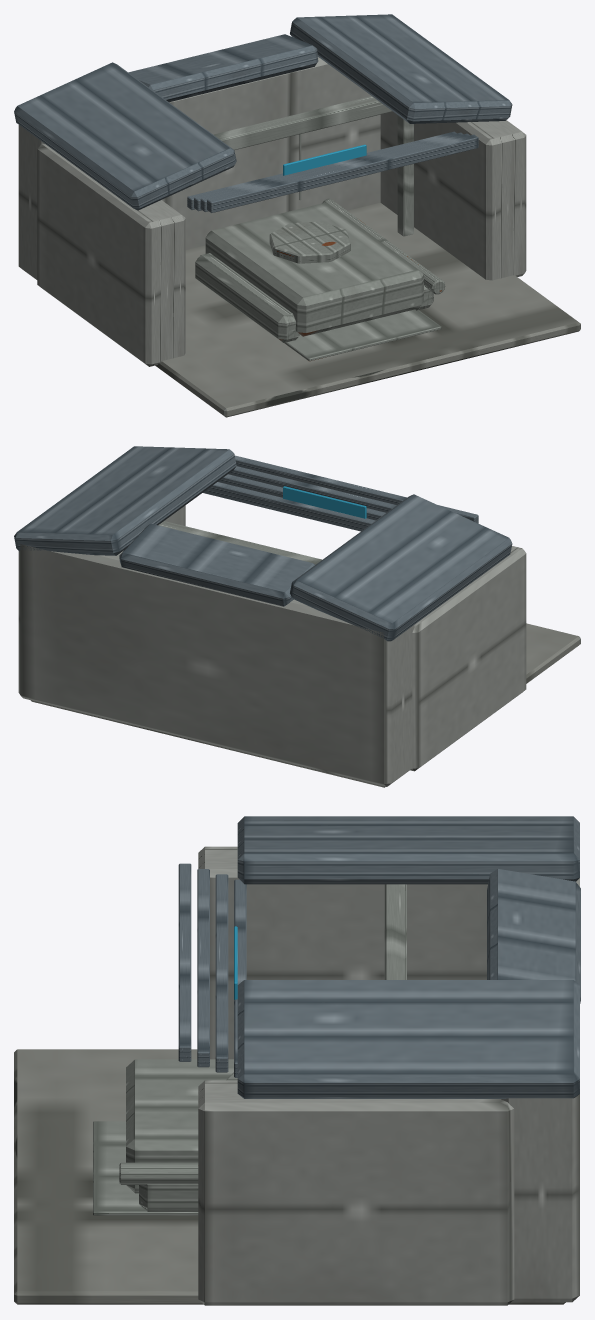
The model's file is edificio-b_016-e5-DEd5gc0Y.glb.
3 views of the same model, one above another, from view 1: azimuth 30°, elevation 25°; view 2: azimuth 150°, elevation 25°; view 3: azimuth 270°, elevation 25° (orthographic). The views are drawn at different scales.
Parts seen in each view (by area): view 1: envolvente_fabrica_asedio_e5, mecanismo_fabrica_asedio_e5, team_color; view 2: envolvente_fabrica_asedio_e5, team_color, mecanismo_fabrica_asedio_e5; view 3: envolvente_fabrica_asedio_e5, mecanismo_fabrica_asedio_e5.
Part boxes in pixels (x1,y1,x2,y2): envolvente_fabrica_asedio_e5: (14, 14, 580, 417); mecanismo_fabrica_asedio_e5: (195, 96, 445, 361); team_color: (283, 144, 366, 175); envolvente_fabrica_asedio_e5: (14, 446, 580, 787); team_color: (283, 486, 366, 518); mecanismo_fabrica_asedio_e5: (158, 521, 321, 564); envolvente_fabrica_asedio_e5: (14, 816, 580, 1305); mecanismo_fabrica_asedio_e5: (93, 884, 406, 1215).
Size of the model in its own units: 47.02 by 22.37 by 43.07.
2 materials, 1 textured.
